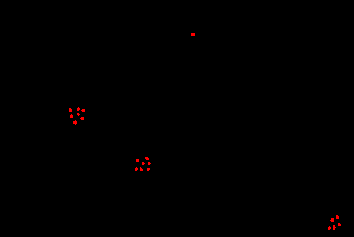Target: (73, 120, 77, 125), (330, 218, 334, 222), (333, 225, 336, 230), (191, 33, 195, 36), (77, 107, 80, 111), (69, 108, 72, 112), (81, 109, 85, 112), (70, 114, 73, 118), (80, 117, 84, 120), (145, 157, 149, 160), (135, 167, 138, 171), (140, 167, 143, 171), (336, 215, 339, 219), (328, 226, 331, 230), (77, 113, 80, 116), (136, 159, 139, 162), (142, 162, 145, 165), (148, 162, 151, 165), (147, 168, 150, 171), (338, 223, 341, 226)
